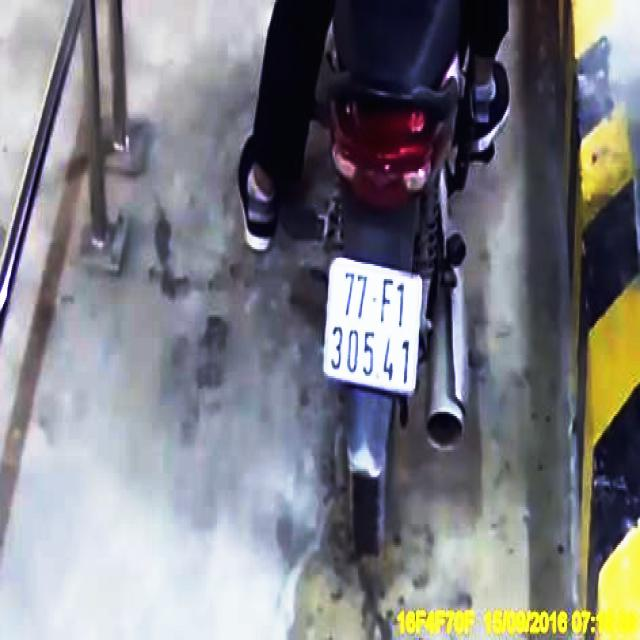license_plate: (325, 256, 424, 394)
